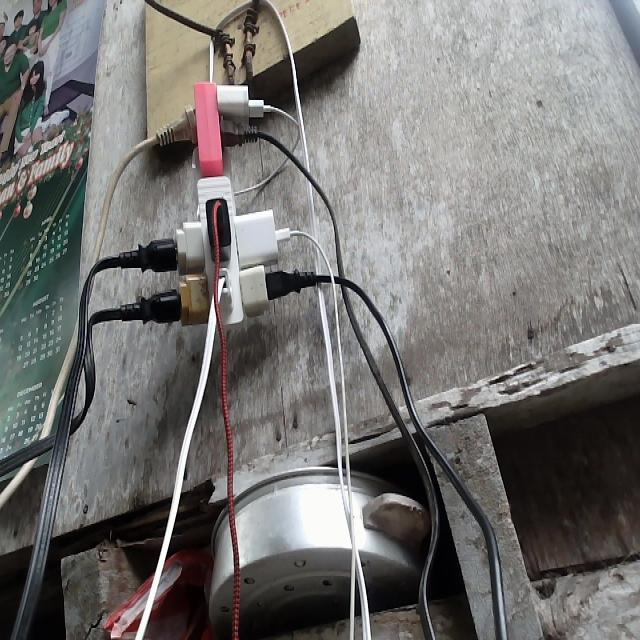-: (120, 80, 315, 325)
